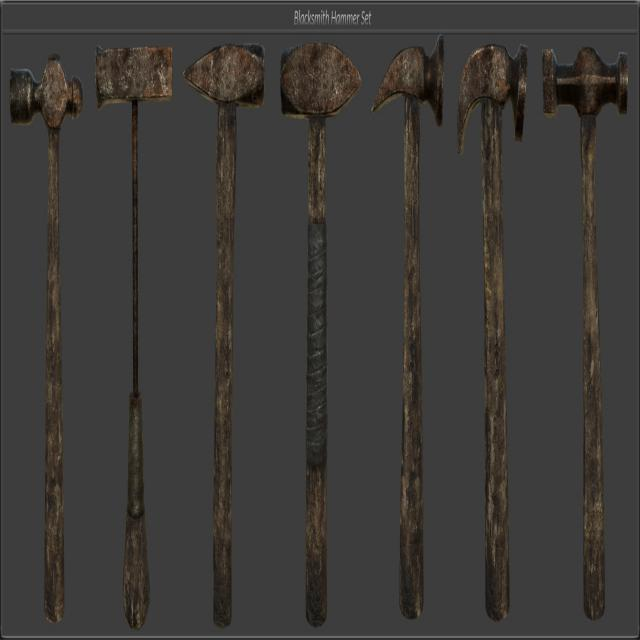hammer: (538, 22, 634, 640), (174, 32, 267, 640), (275, 27, 366, 640), (0, 35, 89, 640), (90, 35, 178, 640), (369, 23, 450, 640), (455, 22, 532, 640)
